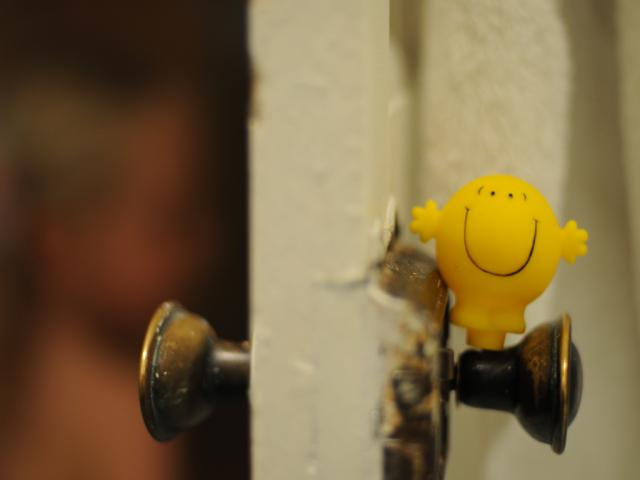Door-handle: (383, 199, 585, 479), (134, 298, 254, 448)
